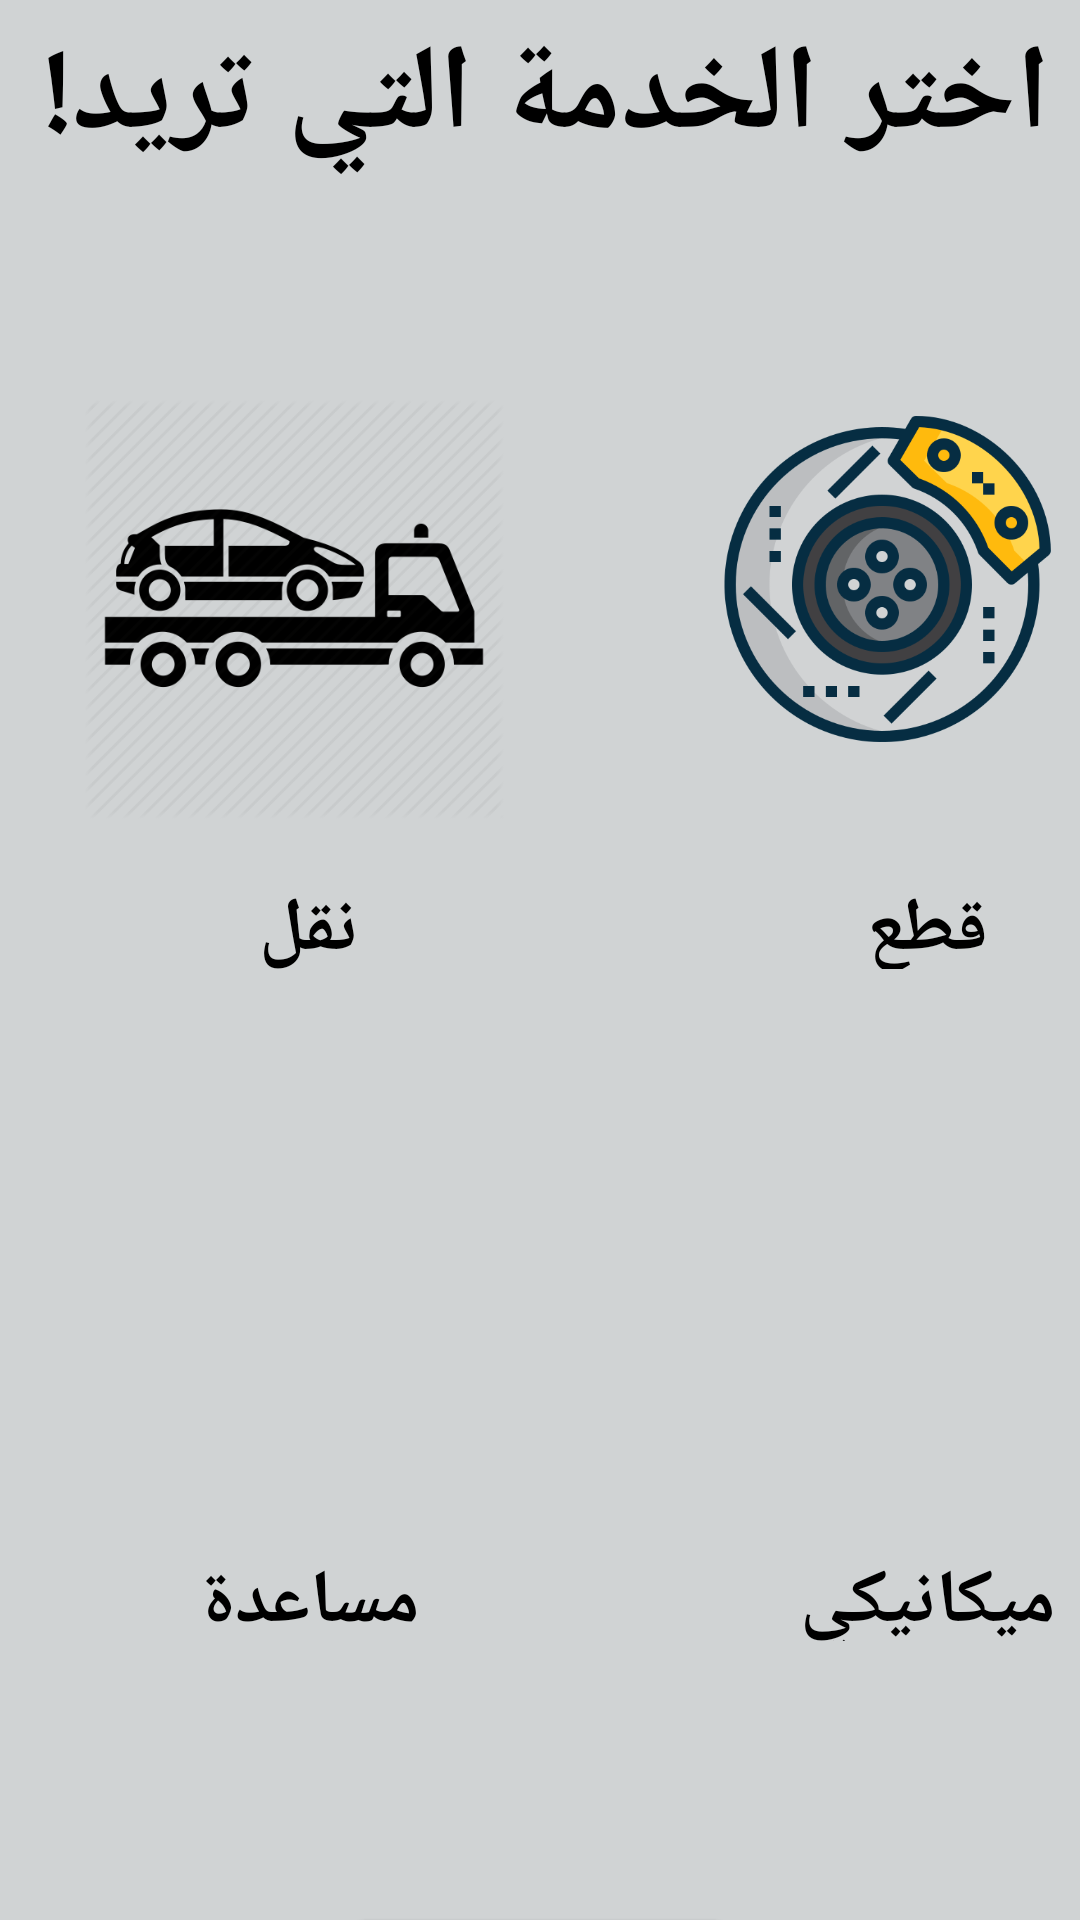

Where to tap for icons on this 1080×1920 app screen, as (x,y):
brake: (887,579)
